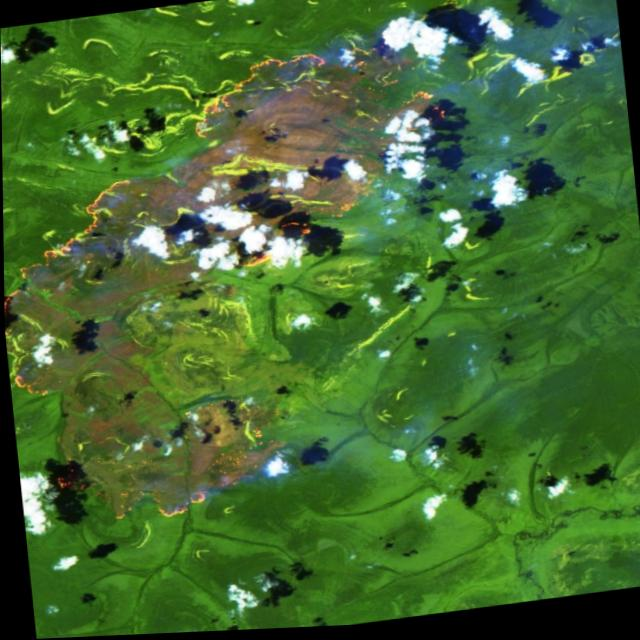fire: (1, 64, 482, 403), (32, 396, 302, 544)
